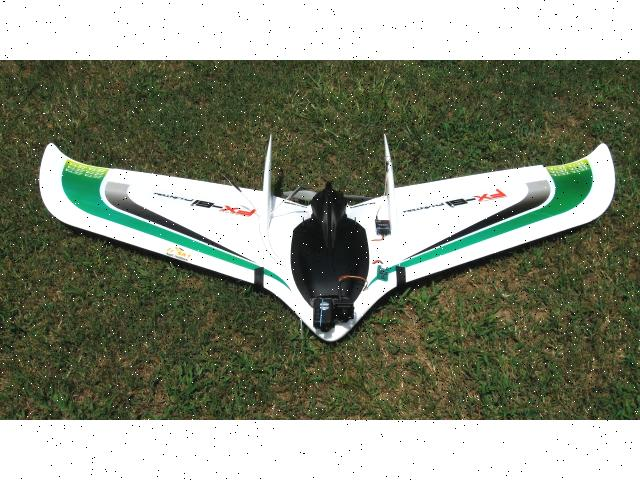Anti-Drone: (37, 110, 625, 358)
